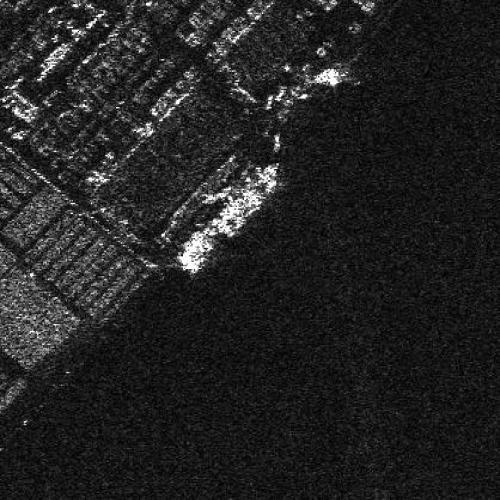ship: (174, 159, 280, 276)
